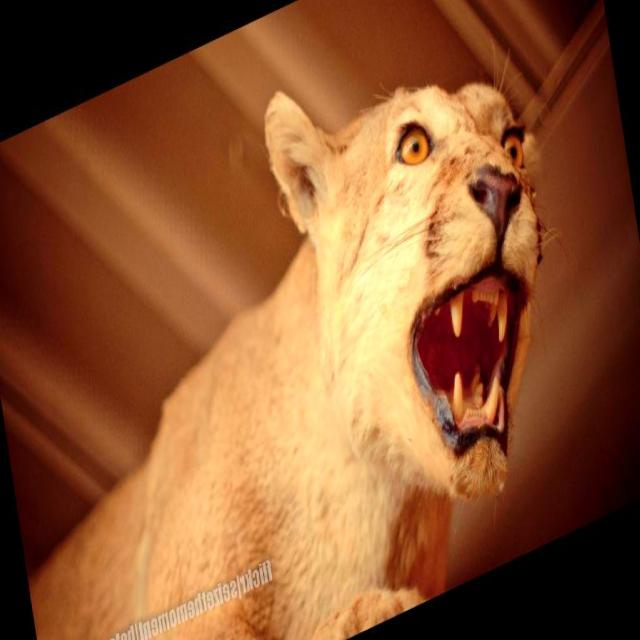Lion: (0, 0, 612, 639)
